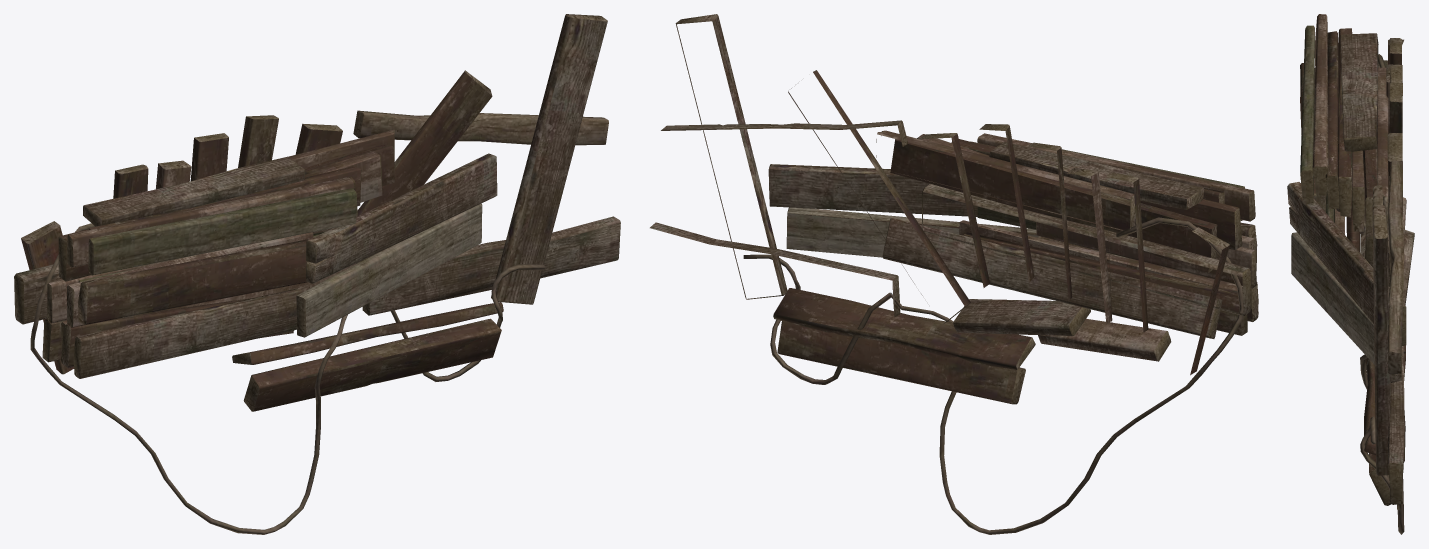
File: GEN_PRO_PlankStack_Broken_01A_LOD0-transformed.glb
The picture shows the model from 3 angles, left to right: view 1: azimuth 30°, elevation 25°; view 2: azimuth 150°, elevation 25°; view 3: azimuth 270°, elevation 25°; orthographic projection. The views are drawn at different scales.
Parts seen in each view (by area): view 1: GEN_PRO_PlankStack_Broken_01A_LOD0; view 2: GEN_PRO_PlankStack_Broken_01A_LOD0; view 3: GEN_PRO_PlankStack_Broken_01A_LOD0.
Boxes of the visible parts, x1,y1,x2,y2 form: GEN_PRO_PlankStack_Broken_01A_LOD0: (14, 14, 620, 534); GEN_PRO_PlankStack_Broken_01A_LOD0: (650, 14, 1258, 534); GEN_PRO_PlankStack_Broken_01A_LOD0: (1287, 14, 1414, 534).
Bounding box in the file's own units: 0.0724 × 0.052 × 0.0127.
2 materials, 2 textured.
